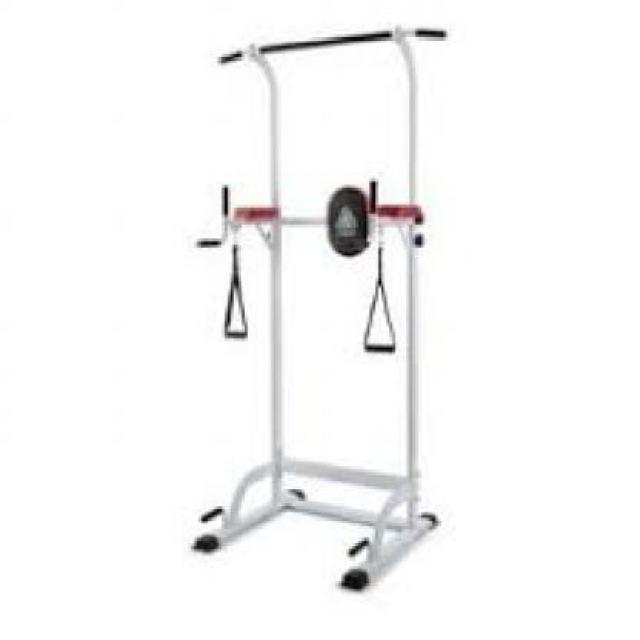chinning dipping: (191, 24, 449, 590)
